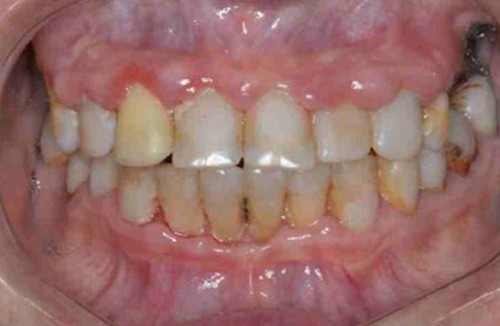LL1BC_healthy: (376, 160, 418, 215)
LL2BC_healthy: (418, 153, 448, 193)
LLCI_decay: (246, 166, 285, 243)
LLC_decay: (328, 156, 375, 230)
LLLI_healthy: (288, 160, 329, 230)
LR1BC_healthy: (87, 155, 116, 203)
LR2BC_healthy: (65, 151, 86, 195)
LRCI_decay: (198, 167, 245, 239)
LRC_decay: (117, 166, 159, 225)
LRLI_decay: (156, 164, 203, 236)
UL1BC_decay: (422, 90, 447, 153)
ULCI_healthy: (244, 81, 317, 172)
ULC_healthy: (364, 80, 423, 156)
ULLI_healthy: (311, 98, 373, 160)
UR1BC_healthy: (52, 101, 80, 157)
URCI_healthy: (173, 87, 246, 169), (81, 84, 116, 157)
URLI_healthy: (116, 80, 170, 164)
